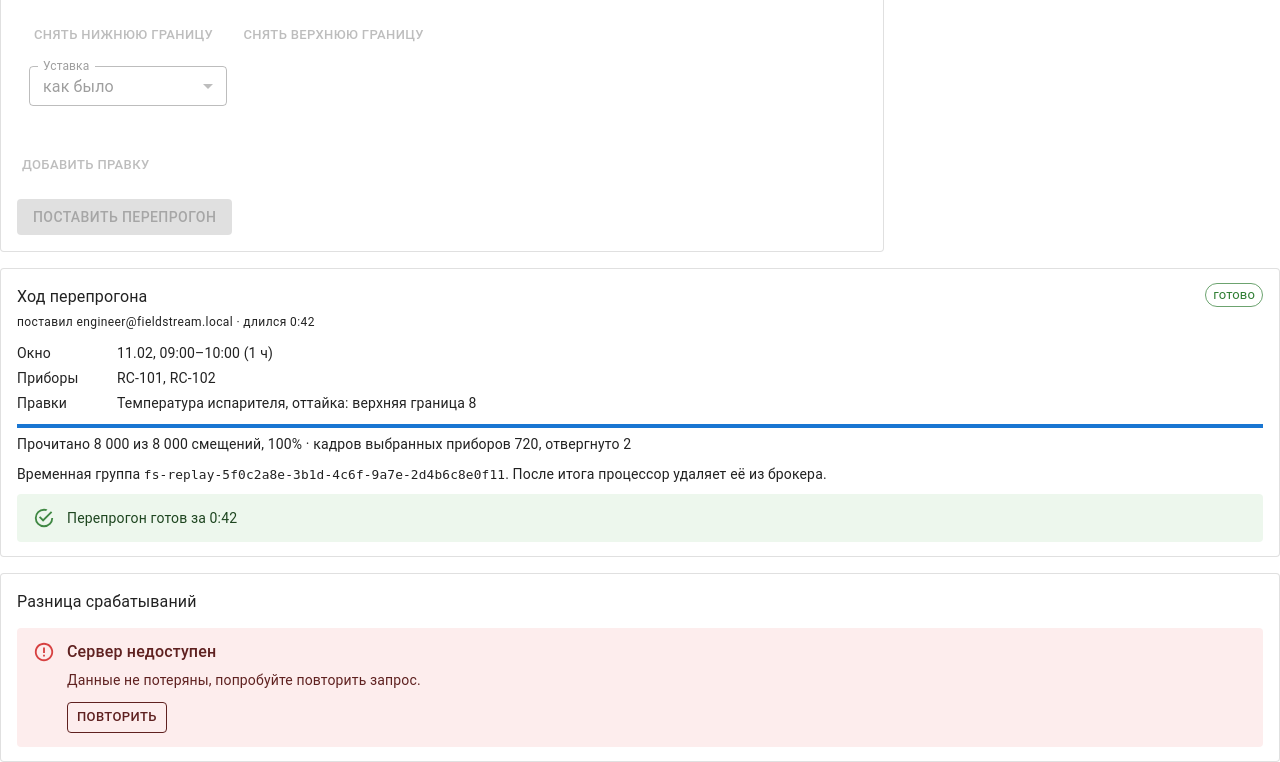
Test: итог перепрогона › ошибка чтения разницы объяснена, а повтор возвращает таблицу
(page scrolled)
Expected: the message "Сервер недоступен Данные не потеряны, попробуйте повторить запрос. Повторить" is shown, [17,628,1263,747]
Click the button "Повторить": click(117, 717) [67,702,167,733]
(page scrolled)
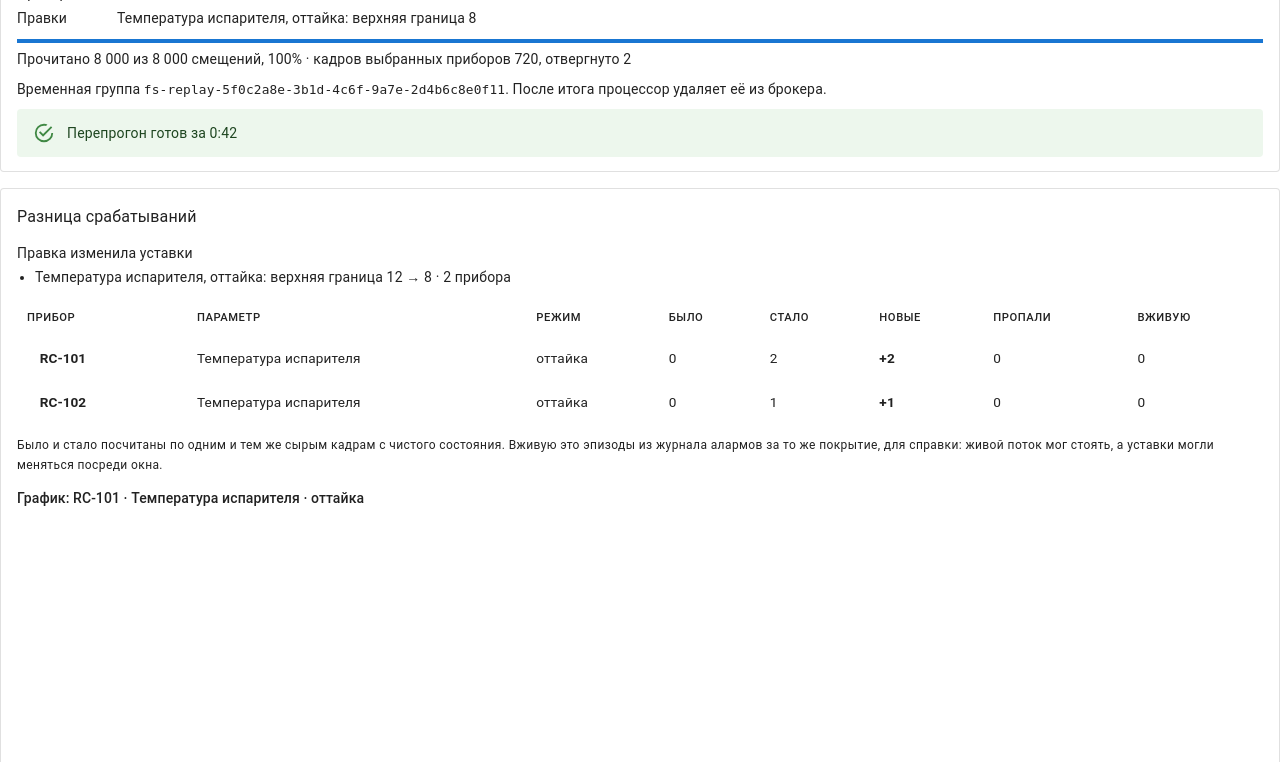
Now the element named "Таблица разницы срабатываний" is shown, box [17,300,1263,424]
